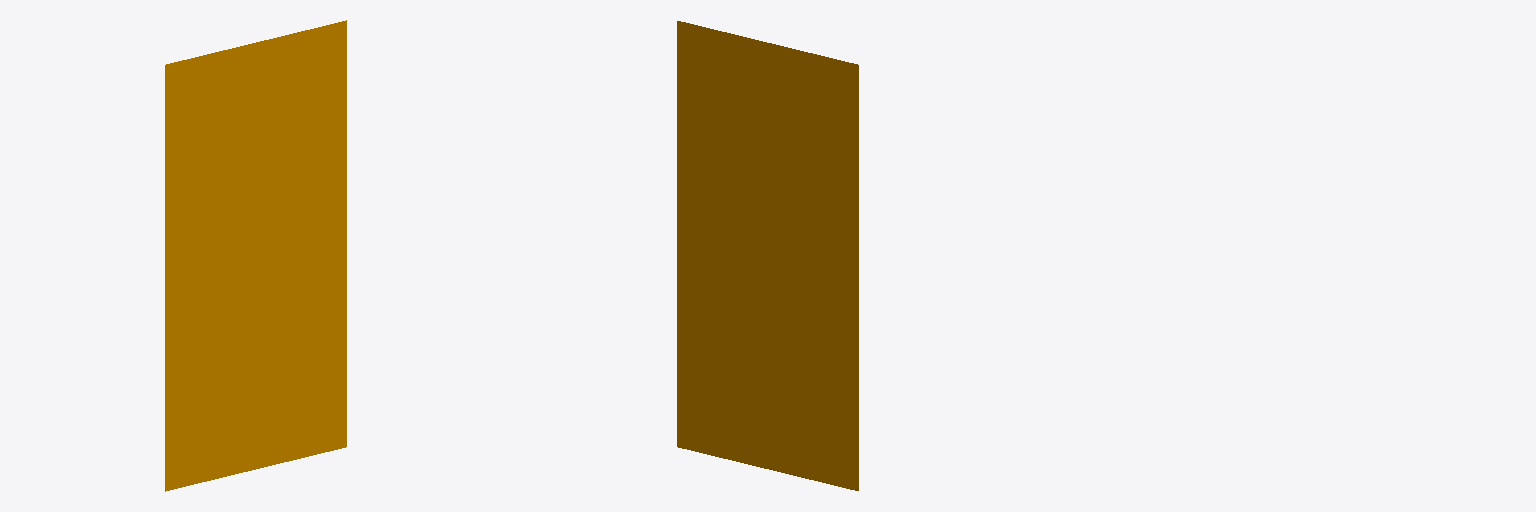
The robot description file, URDF, robot "8X18ground":
<?xml version='1.0' encoding='UTF-8'?>
<robot name="8X18ground">
  <link name="base_link">
    <visual name="base_link_visual">
      <geometry>
        <mesh filename="8X18ground.dae" scale="1. 1. 1."/>
      </geometry>
      <origin xyz="0 0 0" rpy="1.57 0 0"/>
    </visual>
    <collision name="base_link_collision">
      <geometry>
        <mesh filename="8X18ground.dae" scale="1. 1. 1."/>
      </geometry>
      <origin xyz="0 0 0" rpy="1.57 0 0"/>
    </collision>
  </link>
</robot>

--- Render facts (derived) ---
The picture shows the robot from 3 angles, left to right: view 1: azimuth 30°, elevation 25°; view 2: azimuth 150°, elevation 25°; view 3: azimuth 270°, elevation 25°; orthographic projection.
Model 8X18ground with 1 links and 0 joints (none), rooted at base_link, posed every joint at zero.
Visible links, largest first — view 1: base_link; view 2: base_link; view 3: none.
Link boxes in pixels (x1=…): base_link: x1=165, y1=20, x2=346, y2=491; base_link: x1=677, y1=21, x2=858, y2=490.
Bounding box of the posed robot: 8 × 0.0143 × 18 m (x, y, z).
Meshes: 1 distinct files referenced, 1 mesh visuals loaded (1 Collada DAE).